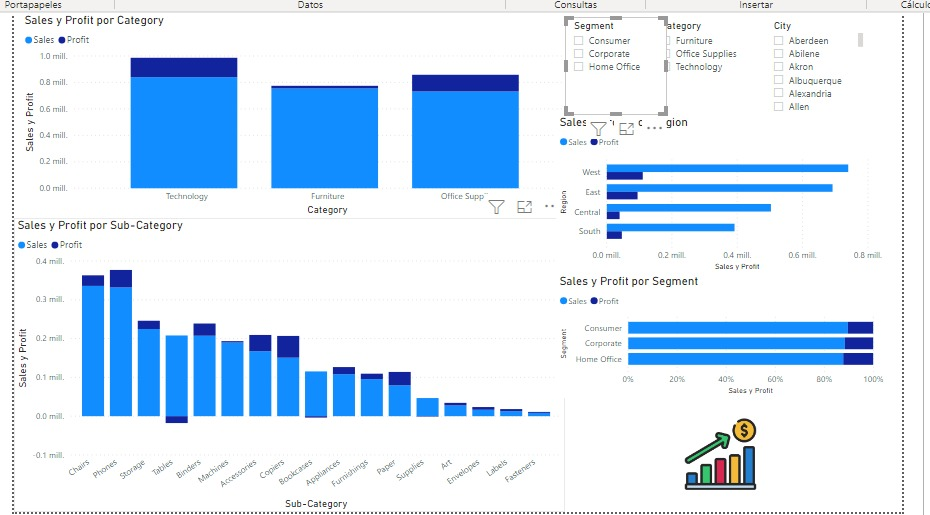

This screenshot's page, from the dashboard's own definition file:
{"tool":"powerbi","page":{"name":"General","canvas":[1280,720],"ordinal":0},"visuals":[{"type":"columnChart","fields":{"Y":["Sum(Orders.Sales)","Sum(Orders.Profit)"],"Category":["Orders.Category"]},"box":[10.1,0,813,295.6],"z":0},{"type":"columnChart","fields":{"Y":["Sum(Orders.Sales)","Sum(Orders.Profit)"],"Category":["Orders.Sub-Category"]},"box":[0,295.6,794.5,425],"z":1000},{"type":"clusteredBarChart","fields":{"Category":["Orders.Region"],"Y":["Sum(Orders.Sales)","Sum(Orders.Profit)"]},"box":[782,147.2,476.2,229.4],"z":2000},{"type":"hundredPercentStackedBarChart","fields":{"Y":["Sum(Orders.Sales)","Sum(Orders.Profit)"],"Category":["Orders.Segment"]},"box":[782,376.6,477.6,178.9],"z":3000},{"type":"slicer","fields":{"Values":["Orders.Segment"]},"box":[795,5.8,147.2,141.4],"z":4000},{"type":"slicer","fields":{"Values":["Orders.City"]},"box":[1083.6,5.8,147.2,141.4],"z":5000},{"type":"slicer","fields":{"Values":["Orders.Category"]},"box":[920.6,5.8,147.2,141.4],"z":6000},{"type":"image","box":[937.9,580,163,112.5],"z":7000}]}

Visuals, with their boxes on the page's 1280x720 design canvas (x1, y1, x2, y2). These are canvas units, not pixel positions in the 930x515 screenshot, which may show the page scaled, cropped or inside an application window:
columnChart - Sum(Orders.Sales) x Sum(Orders.Profit): [x1=10, y1=0, x2=823, y2=296]
columnChart - Sum(Orders.Sales) x Sum(Orders.Profit): [x1=0, y1=296, x2=794, y2=721]
clusteredBarChart - Orders.Region x Sum(Orders.Sales): [x1=782, y1=147, x2=1258, y2=377]
hundredPercentStackedBarChart - Sum(Orders.Sales) x Sum(Orders.Profit): [x1=782, y1=377, x2=1260, y2=556]
slicer - Orders.Segment: [x1=795, y1=6, x2=942, y2=147]
slicer - Orders.City: [x1=1084, y1=6, x2=1231, y2=147]
slicer - Orders.Category: [x1=921, y1=6, x2=1068, y2=147]
image: [x1=938, y1=580, x2=1101, y2=692]
